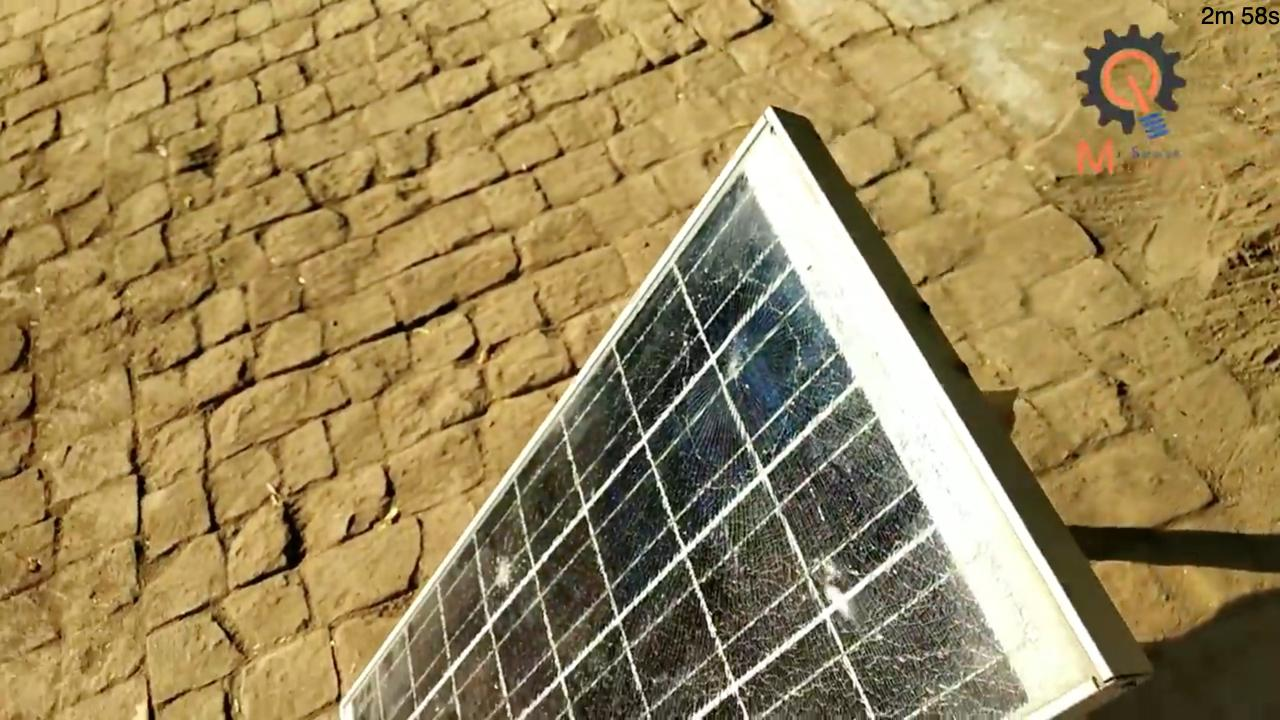Crack: (800, 543, 877, 644), (710, 325, 767, 400), (482, 546, 525, 599)
